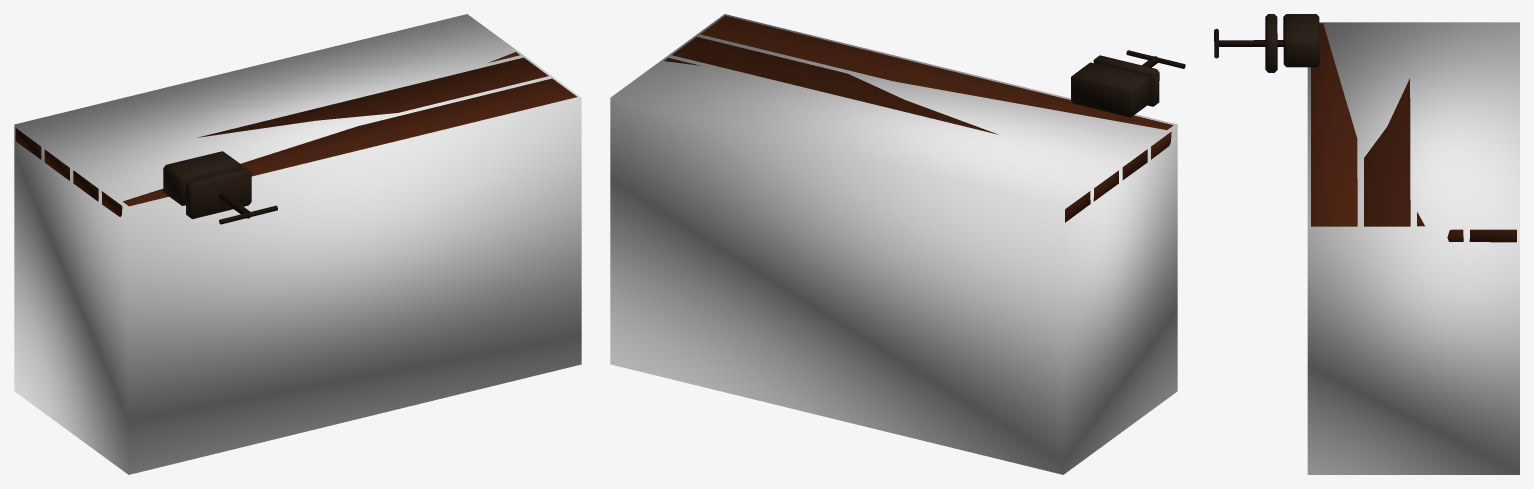
File: banco_trabajo.glb
3 renders of one model, left to right at view 1: azimuth 30°, elevation 25°; view 2: azimuth 150°, elevation 25°; view 3: azimuth 270°, elevation 25°, orthographic. The views are drawn at different scales.
Visible parts, largest first — view 1: banco_trabajo-colcaja, banco; view 2: banco_trabajo-colcaja, banco; view 3: banco_trabajo-colcaja, banco.
Boxes of the visible parts, x1=… form: banco_trabajo-colcaja: x1=14, y1=14, x2=581, y2=474; banco: x1=15, y1=52, x2=576, y2=224; banco_trabajo-colcaja: x1=610, y1=14, x2=1177, y2=474; banco: x1=664, y1=16, x2=1185, y2=222; banco_trabajo-colcaja: x1=1307, y1=22, x2=1519, y2=474; banco: x1=1214, y1=14, x2=1516, y2=242.
Size of the model in its own units: 1.6 by 1 by 1.01.
